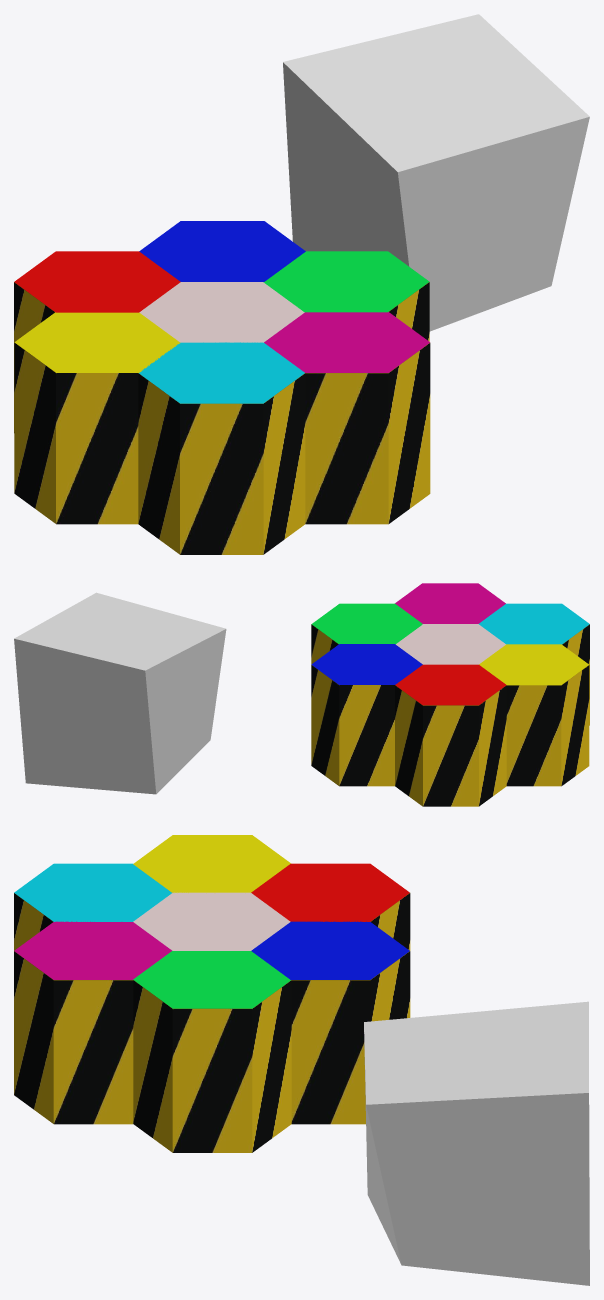
Rendered from Map.fbx.
The picture shows the model from 3 angles, top to bottom: view 1: azimuth 30°, elevation 25°; view 2: azimuth 150°, elevation 25°; view 3: azimuth 270°, elevation 25°; orthographic projection. The views are drawn at different scales.
Parts seen in each view (by area): view 1: Platform, Cyan, Pink, Yellow, Red, Green, Blue, White; view 2: Platform, Red, Blue, Yellow, Cyan, Green, Pink, White; view 3: Platform, Green, Pink, Blue, Red, Cyan, White, Yellow.
Part boxes in pixels (bbox=[...]): Platform: bbox=[283, 14, 589, 331]; Cyan: bbox=[138, 342, 305, 554]; Pink: bbox=[264, 312, 430, 524]; Yellow: bbox=[14, 312, 180, 524]; Red: bbox=[14, 251, 180, 432]; Green: bbox=[263, 251, 429, 341]; Blue: bbox=[139, 221, 305, 281]; White: bbox=[139, 282, 304, 342]; Platform: bbox=[14, 592, 226, 794]; Red: bbox=[395, 664, 506, 806]; Blue: bbox=[311, 644, 422, 786]; Yellow: bbox=[479, 644, 589, 786]; Cyan: bbox=[479, 603, 589, 725]; Green: bbox=[311, 603, 422, 664]; Pink: bbox=[395, 583, 505, 623]; White: bbox=[396, 624, 505, 664]; Platform: bbox=[364, 1001, 589, 1285]; Green: bbox=[133, 951, 291, 1152]; Pink: bbox=[14, 921, 171, 1124]; Blue: bbox=[251, 921, 410, 1124]; Red: bbox=[251, 863, 410, 950]; Cyan: bbox=[14, 863, 171, 950]; White: bbox=[133, 892, 290, 950]; Yellow: bbox=[133, 835, 290, 892].
Size of the model in its own units: 887 by 279 by 724.
15 materials, 7 textured.
